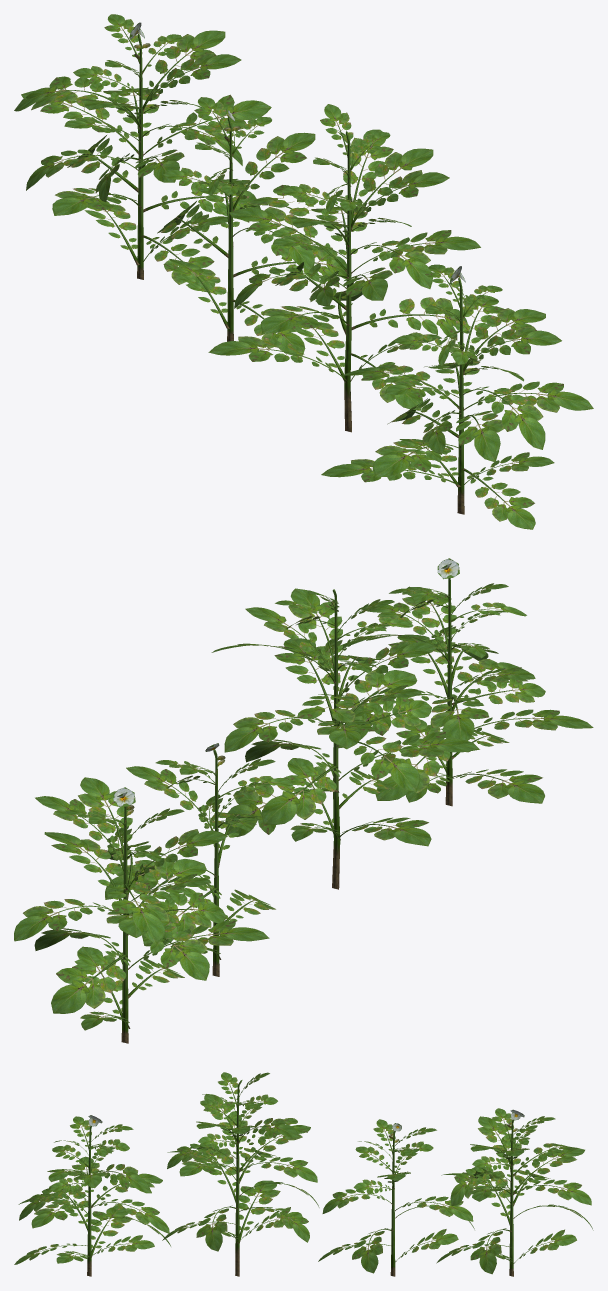
File: Potato_plants_Collection.fbx
3 renders of one model, top to bottom at view 1: azimuth 30°, elevation 25°; view 2: azimuth 150°, elevation 25°; view 3: azimuth 270°, elevation 25°, orthographic. The views are drawn at different scales.
Parts seen in each view (by area): view 1: Potato_03, Potato_04, Potato_01, Potato_02; view 2: Potato_03, Potato_01, Potato_04, Potato_02; view 3: Potato_03, Potato_04, Potato_01, Potato_02.
Part boxes in pixels (left/top/right/bottom): Potato_03: left=208, top=104, right=480, bottom=432; Potato_04: left=321, top=264, right=593, bottom=529; Potato_01: left=14, top=14, right=271, bottom=292; Potato_02: left=157, top=97, right=351, bottom=356; Potato_03: left=211, top=588, right=479, bottom=889; Potato_01: left=14, top=777, right=269, bottom=1043; Potato_04: left=338, top=558, right=593, bottom=806; Potato_02: left=105, top=743, right=293, bottom=976; Potato_03: left=162, top=1072, right=319, bottom=1276; Potato_04: left=14, top=1115, right=170, bottom=1276; Potato_01: left=436, top=1108, right=593, bottom=1276; Potato_02: left=318, top=1119, right=474, bottom=1276.
Size of the model in its own units: 16.79 by 22.35 by 57.87.
1 material, 1 textured.
